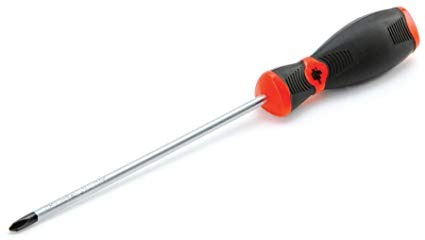screwdriver: (7, 1, 419, 231)
